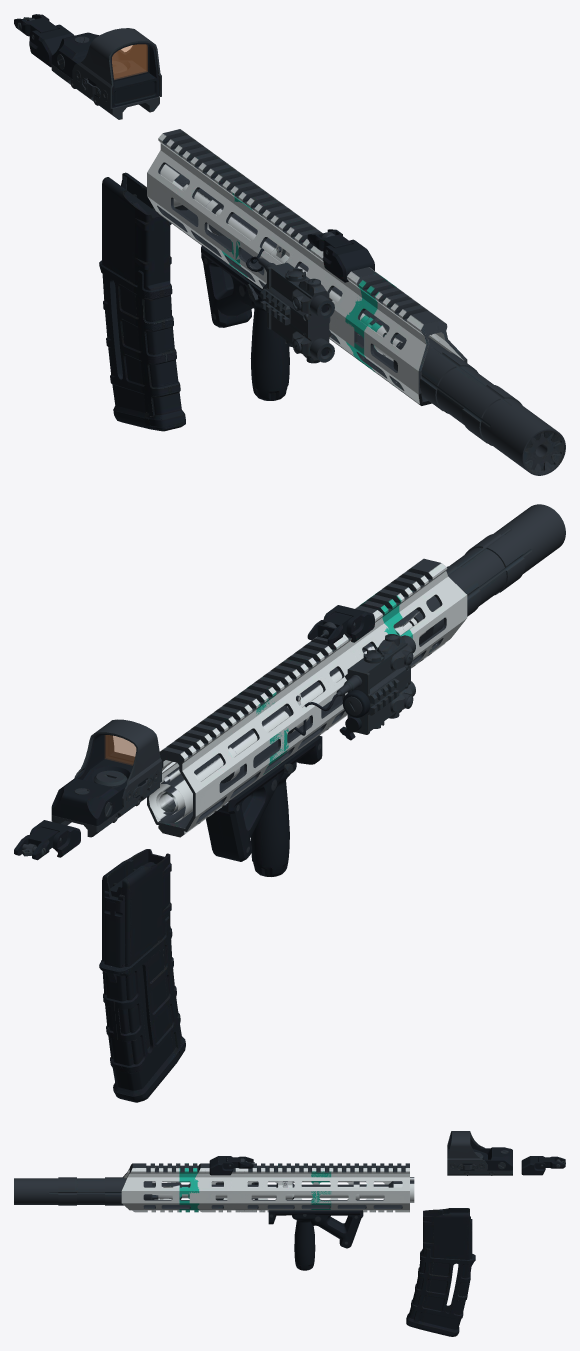
The model's file is AssaultRifle.glb.
The picture shows the model from 3 angles, top to bottom: view 1: azimuth 30°, elevation 25°; view 2: azimuth 150°, elevation 25°; view 3: azimuth 270°, elevation 25°; orthographic projection. The views are drawn at different scales.
Parts seen in each view (by area): view 1: SM_AssaultRifle_Magazine_Transparent, SM_AssaultRifle_Handguard_Extended, SM_Silencer, SM_AssaultRifle_Handguard_Short, SM_Scope, SM_Laser, SM_AssaultRifle_Handguard_Default, SM_Grip_Vertical, SM_Grip_Angled, SM_AssaultRifle_Sight_Front_Folded, SM_AssaultRifle_Sight_Rear_Folded; view 2: SM_AssaultRifle_Magazine_Transparent, SM_AssaultRifle_Handguard_Extended, SM_AssaultRifle_Handguard_Short, SM_Scope, SM_AssaultRifle_Handguard_Default, SM_Silencer, SM_Laser, SM_Grip_Angled, SM_Grip_Vertical, SM_AssaultRifle_Sight_Rear_Folded, SM_AssaultRifle_Sight_Front_Folded; view 3: SM_AssaultRifle_Handguard_Extended, SM_AssaultRifle_Magazine_Transparent, SM_AssaultRifle_Handguard_Short, SM_AssaultRifle_Handguard_Default, SM_Silencer, SM_Scope, SM_Grip_Angled, SM_Grip_Vertical, SM_AssaultRifle_Sight_Rear_Folded, SM_AssaultRifle_Sight_Front_Folded.
Boxes of the visible parts, bbox=[...] form: SM_AssaultRifle_Magazine_Transparent: bbox=[99, 172, 185, 431]; SM_AssaultRifle_Handguard_Extended: bbox=[147, 132, 467, 405]; SM_Silencer: bbox=[393, 337, 565, 475]; SM_AssaultRifle_Handguard_Short: bbox=[147, 129, 406, 361]; SM_Scope: bbox=[51, 28, 161, 119]; SM_Laser: bbox=[246, 248, 334, 363]; SM_AssaultRifle_Handguard_Default: bbox=[147, 139, 400, 358]; SM_Grip_Vertical: bbox=[244, 277, 289, 400]; SM_Grip_Angled: bbox=[201, 245, 261, 327]; SM_AssaultRifle_Sight_Front_Folded: bbox=[307, 229, 374, 282]; SM_AssaultRifle_Sight_Rear_Folded: bbox=[14, 14, 74, 67]; SM_AssaultRifle_Magazine_Transparent: bbox=[99, 849, 185, 1102]; SM_AssaultRifle_Handguard_Extended: bbox=[149, 558, 467, 836]; SM_AssaultRifle_Handguard_Short: bbox=[147, 609, 426, 835]; SM_Scope: bbox=[51, 719, 161, 837]; SM_AssaultRifle_Handguard_Default: bbox=[147, 605, 417, 837]; SM_Silencer: bbox=[414, 504, 565, 644]; SM_Laser: bbox=[293, 634, 415, 740]; SM_Grip_Angled: bbox=[206, 735, 322, 861]; SM_Grip_Vertical: bbox=[251, 753, 296, 876]; SM_AssaultRifle_Sight_Rear_Folded: bbox=[14, 820, 80, 860]; SM_AssaultRifle_Sight_Front_Folded: bbox=[307, 605, 374, 644]; SM_AssaultRifle_Handguard_Extended: bbox=[121, 1163, 414, 1212]; SM_AssaultRifle_Magazine_Transparent: bbox=[406, 1208, 475, 1336]; SM_AssaultRifle_Handguard_Short: bbox=[152, 1163, 414, 1212]; SM_AssaultRifle_Handguard_Default: bbox=[160, 1163, 409, 1212]; SM_Silencer: bbox=[14, 1177, 158, 1205]; SM_Scope: bbox=[447, 1131, 512, 1175]; SM_Grip_Angled: bbox=[268, 1210, 363, 1248]; SM_Grip_Vertical: bbox=[292, 1210, 315, 1270]; SM_AssaultRifle_Sight_Rear_Folded: bbox=[521, 1156, 565, 1175]; SM_AssaultRifle_Sight_Front_Folded: bbox=[209, 1156, 253, 1175].
Size of what is drawn, in the model's own units: 6.64 by 27.7 by 69.1.
15 materials, 13 textured.
